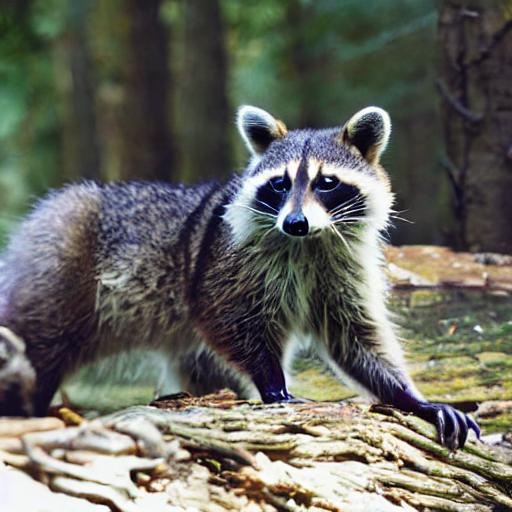raccoon: (0, 101, 446, 400)
